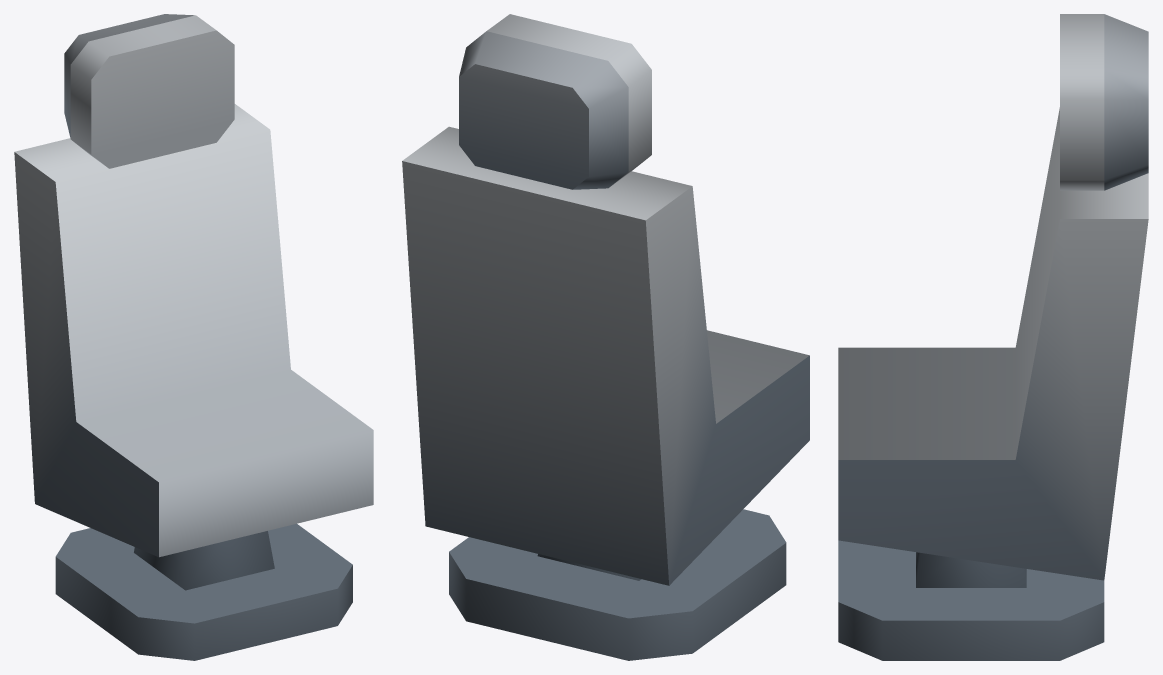
File: chair-headrest.glb
The picture shows the model from 3 angles, left to right: view 1: azimuth 30°, elevation 25°; view 2: azimuth 150°, elevation 25°; view 3: azimuth 270°, elevation 25°; orthographic projection. The views are drawn at different scales.
Parts seen in each view (by area): view 1: chair-headrest; view 2: chair-headrest; view 3: chair-headrest.
Boxes of the visible parts, x1,y1,x2,y2 form: chair-headrest: [14, 14, 373, 660]; chair-headrest: [402, 14, 809, 660]; chair-headrest: [838, 14, 1148, 660].
Bounding box in the file's own units: 0.3 × 0.7 × 0.3499.
